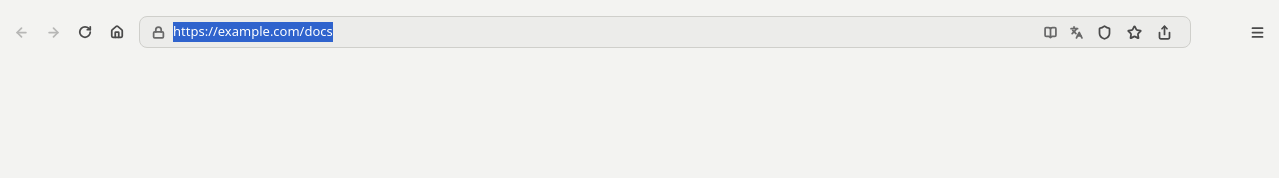
Test: address bar suggestions › closes on Escape and restores the current address
This screenshot has width=1279, height=178.
Replace the text in the dropdown named "address" with "learn": (600, 32) [173,22,1026,42]
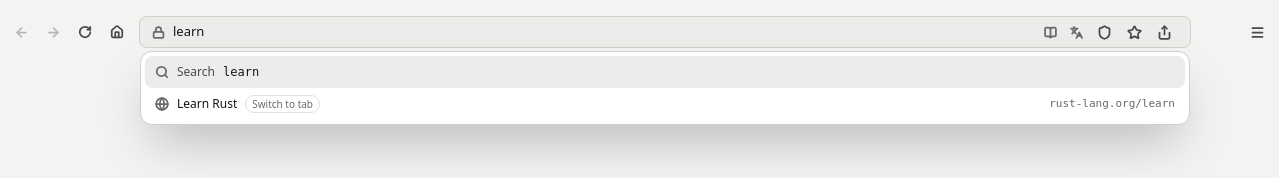
Expected: the list is shown, [140,51,1190,125]
Press Escape in the dropdown named "address", box [173,22,1026,42]
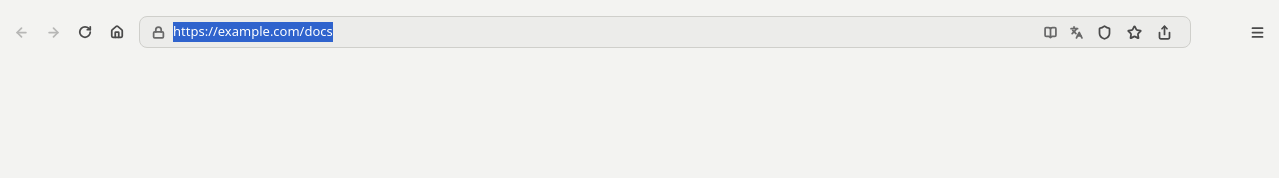
Expected: the list is gone
Expected: the dropdown named "address" holds "https://example.com/docs"
Press Escape in the dropdown named "address", box [173,22,1026,42]
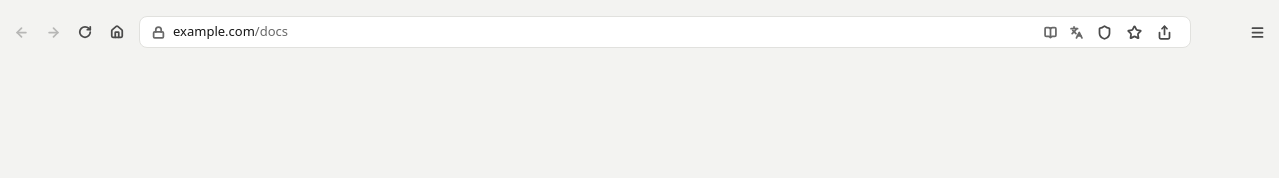
Expected: the dropdown named "address" holds "example.com/docs", [173,22,1026,42]
